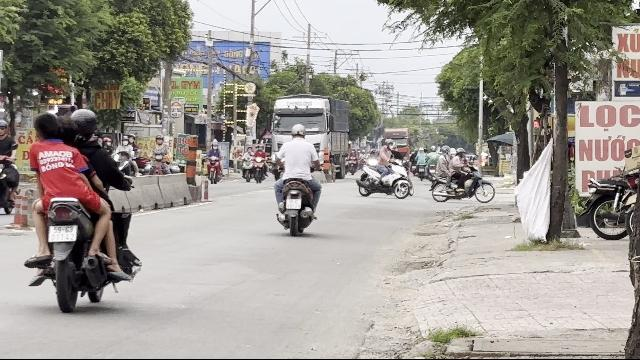helmet: (69, 107, 99, 141)
licenseplate: (49, 226, 77, 242)
motorcyclist: (22, 106, 138, 312)
nohelmet: (32, 111, 59, 140)
